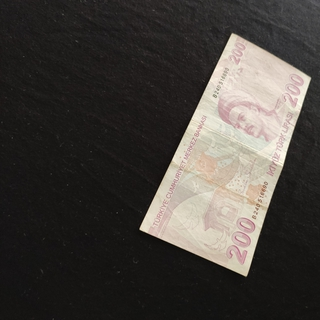200TLBack: (139, 32, 312, 277)
